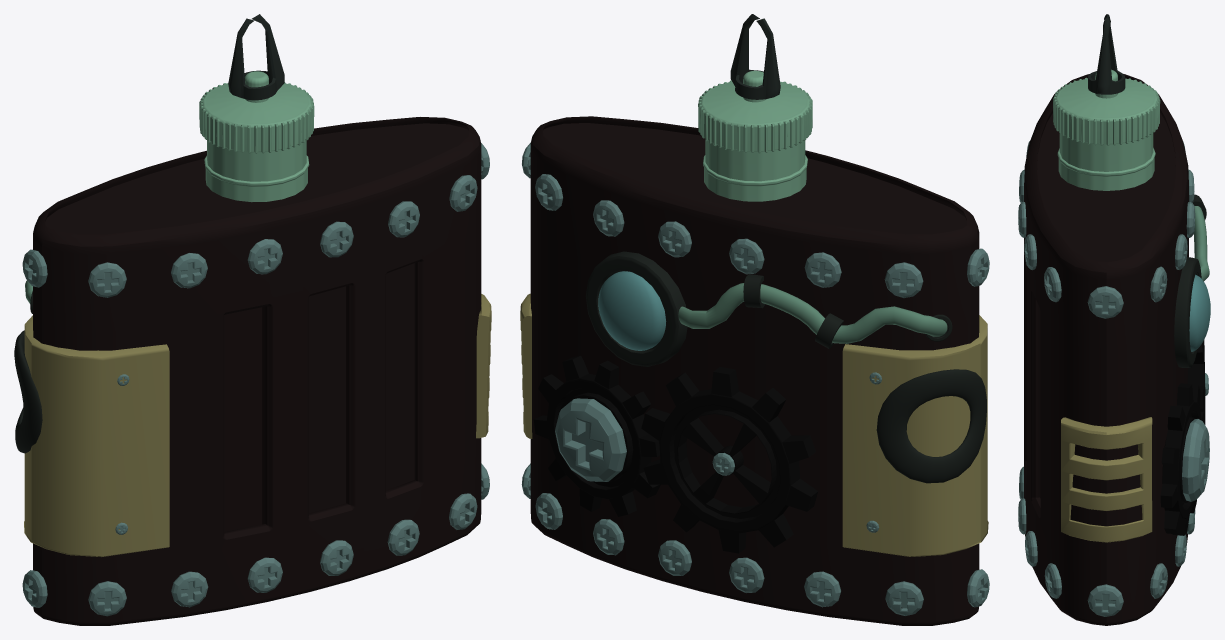
Rendered from Flask2.obj.
The picture shows the model from 3 angles, left to right: view 1: azimuth 30°, elevation 25°; view 2: azimuth 150°, elevation 25°; view 3: azimuth 270°, elevation 25°; orthographic projection. The views are drawn at different scales.
Visible parts, largest first — view 1: pCylinder1, pCylinder4, pCylinder2, pPipe2, pTorus1, pCylinder3, polySurface10 polySurface18, polySurface11 polySurface24, polySurface11 polySurface23, polySurface10 polySurface17, polySurface10 polySurface16, polySurface11 polySurface22 (+8 smaller); view 2: pCylinder1, pCylinder4, gear4, pCylinder2, gear3, pTorus1, pCylinder6, pCylinder5, polySurface46 polySurface12, pSphere1, pPipe2, pCylinder3 (+14 smaller); view 3: pCylinder1, pCylinder2, pCylinder3, gear3, polySurface46 polySurface12, pCylinder5, pPipe2, pSphere1, polySurface12 polySurface40, polySurface12 polySurface37, pCylinder6, gear4 (+9 smaller).
Boxes of the visible parts, x1,y1,x2,y2 form: pCylinder1: [33, 117, 481, 625]; pCylinder4: [24, 315, 169, 556]; pCylinder2: [199, 71, 314, 202]; pPipe2: [228, 14, 284, 100]; pTorus1: [14, 330, 42, 453]; pCylinder3: [476, 294, 491, 438]; polySurface10 polySurface18: [88, 262, 126, 297]; polySurface11 polySurface24: [88, 581, 126, 616]; polySurface11 polySurface23: [171, 571, 208, 607]; polySurface10 polySurface17: [171, 253, 207, 288]; polySurface10 polySurface16: [247, 239, 282, 274]; polySurface11 polySurface22: [247, 557, 282, 592]; pCylinder1: [530, 116, 979, 625]; pCylinder4: [842, 315, 988, 556]; gear4: [641, 367, 817, 553]; pCylinder2: [698, 70, 812, 201]; gear3: [534, 355, 660, 516]; pTorus1: [876, 369, 986, 483]; pCylinder6: [678, 283, 947, 343]; pCylinder5: [585, 251, 687, 366]; polySurface46 polySurface12: [555, 398, 626, 481]; pSphere1: [598, 271, 666, 350]; pPipe2: [730, 14, 780, 99]; pCylinder3: [520, 293, 532, 438]; pCylinder1: [1024, 74, 1188, 625]; pCylinder2: [1053, 69, 1160, 190]; pCylinder3: [1061, 417, 1152, 542]; gear3: [1160, 383, 1204, 535]; polySurface46 polySurface12: [1182, 419, 1209, 501]; pCylinder5: [1174, 257, 1201, 367]; pPipe2: [1088, 14, 1125, 94]; pSphere1: [1189, 274, 1210, 351]; polySurface12 polySurface40: [1087, 286, 1123, 318]; polySurface12 polySurface37: [1087, 584, 1123, 616]; pCylinder6: [1194, 206, 1209, 281]; gear4: [1187, 340, 1205, 424].
Bounding box in the file's own units: 2.77 × 3.17 × 1.08.
